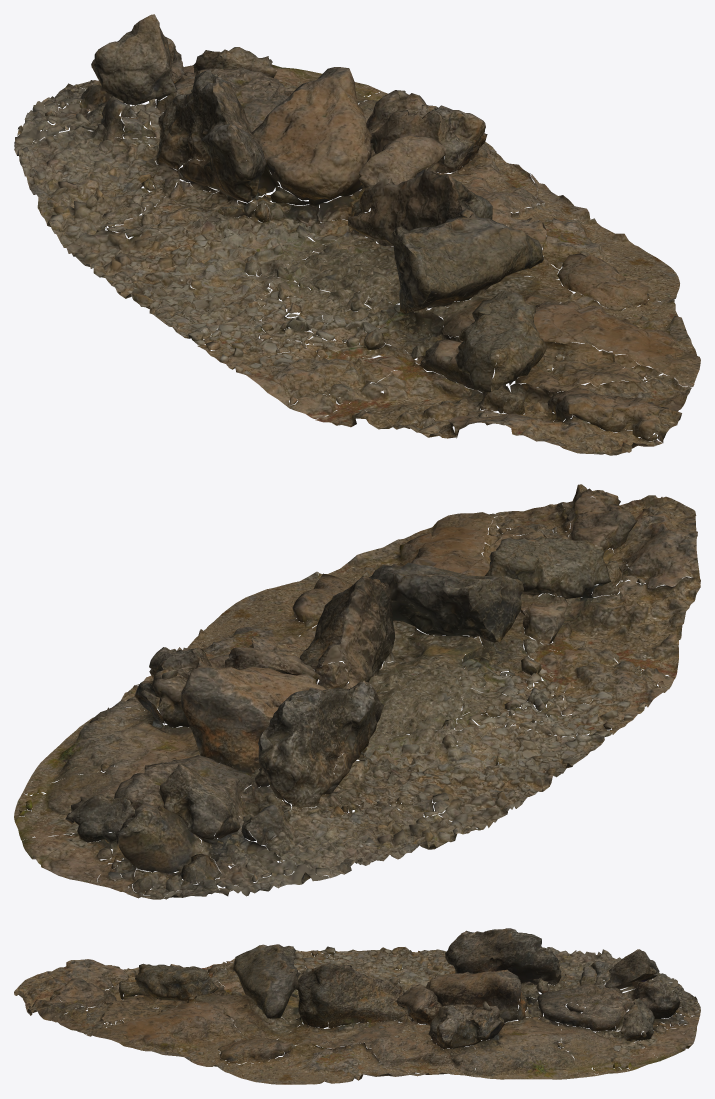
File: CoastRocks.fbx
The picture shows the model from 3 angles, top to bottom: view 1: azimuth 30°, elevation 25°; view 2: azimuth 150°, elevation 25°; view 3: azimuth 270°, elevation 25°; orthographic projection. The views are drawn at different scales.
Visible parts, largest first — view 1: coast_land_rocks_02; view 2: coast_land_rocks_02; view 3: coast_land_rocks_02.
Boxes of the visible parts, box(x1,y1,x2,y2) form: coast_land_rocks_02: box(14, 14, 700, 455); coast_land_rocks_02: box(14, 484, 700, 899); coast_land_rocks_02: box(14, 928, 700, 1084).
Bounding box in the file's own units: 489 × 140 × 1045.
1 material, 1 textured.
